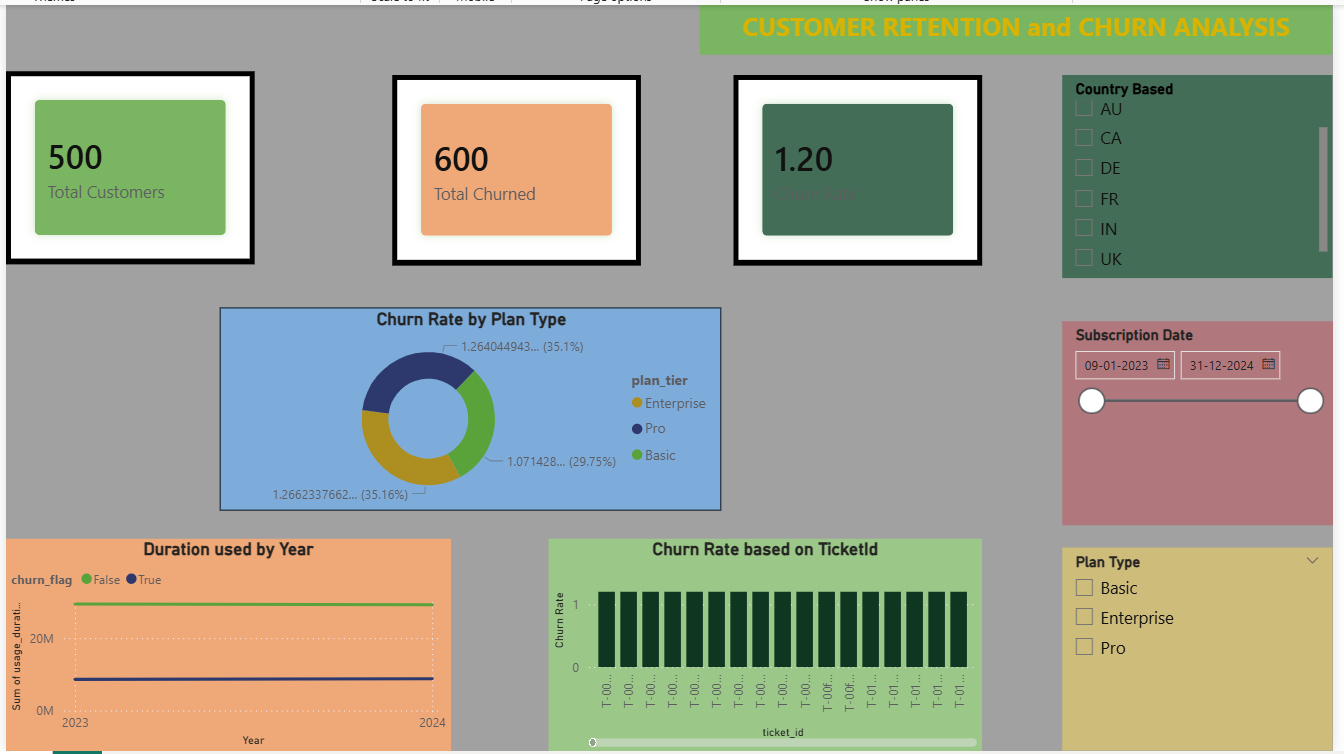

What the dashboard file says about the page in this screenshot:
{"tool":"powerbi","page":{"name":"Page 1","canvas":[1280,720],"ordinal":0},"visuals":[{"type":"cardVisual","fields":{"Data":["ravenstack_accounts.Churn Rate"]},"box":[702.6,67.2,240.1,183.9],"z":0},{"type":"cardVisual","fields":{"Data":["ravenstack_accounts.Total Customers"]},"box":[0,64.5,240.1,186.6],"z":1000},{"type":"cardVisual","fields":{"Data":["ravenstack_accounts.Total Churned"]},"box":[373.2,67.2,240.1,183.9],"z":2000},{"type":"donutChart","title":"Churn Rate by Plan Type","fields":{"Category":["ravenstack_accounts.plan_tier"],"Y":["ravenstack_accounts.Churn Rate"]},"box":[205.8,292.3,484.4,196.2],"z":3000},{"type":"clusteredColumnChart","title":"Churn Rate based on TicketId","fields":{"Category":["ravenstack_support_tickets.ticket_id"],"Y":["ravenstack_accounts.Churn Rate"]},"box":[524.2,514.6,418.5,205.8],"z":4000},{"type":"lineChart","title":"Duration used by Year","fields":{"Category":["ravenstack_feature_usage.usage_date.Variation.Date Hierarchy.Year","ravenstack_feature_usage.usage_date.Variation.Date Hierarchy.Quarter","ravenstack_feature_usage.usage_date.Variation.Date Hierarchy.Month","ravenstack_feature_usage.usage_date.Variation.Date Hierarchy.Day"],"Y":["Sum(ravenstack_feature_usage.usage_duration_secs)"],"Series":["ravenstack_accounts.churn_flag"]},"box":[0,514.6,429.5,205.8],"z":5000},{"type":"slicer","fields":{"Values":["ravenstack_subscriptions.plan_tier"]},"box":[1019.6,524.2,260.7,196.2],"z":5001},{"type":"slicer","fields":{"Values":["ravenstack_subscriptions.start_date"]},"box":[1019.6,304.6,260.7,196.2],"z":5002},{"type":"slicer","fields":{"Values":["ravenstack_accounts.country"]},"box":[1019.6,67.2,260.7,196.2],"z":5003},{"type":"textbox","box":[669.6,0,610.6,48],"z":5004}]}

Visuals, with their boxes in screenshot pixels (x1, y1, x2, y2):
cardVisual - ravenstack_accounts.Churn Rate: x1=728 y1=69 x2=975 y2=259
cardVisual - ravenstack_accounts.Total Customers: x1=4 y1=66 x2=251 y2=259
cardVisual - ravenstack_accounts.Total Churned: x1=388 y1=69 x2=636 y2=259
"Churn Rate by Plan Type" donutChart: x1=216 y1=301 x2=715 y2=503
"Churn Rate based on TicketId" clusteredColumnChart: x1=544 y1=530 x2=975 y2=743
"Duration used by Year" lineChart: x1=4 y1=530 x2=446 y2=743
slicer - ravenstack_subscriptions.plan_tier: x1=1054 y1=540 x2=1323 y2=743
slicer - ravenstack_subscriptions.start_date: x1=1054 y1=314 x2=1323 y2=516
slicer - ravenstack_accounts.country: x1=1054 y1=69 x2=1323 y2=271
textbox: x1=694 y1=0 x2=1323 y2=49
